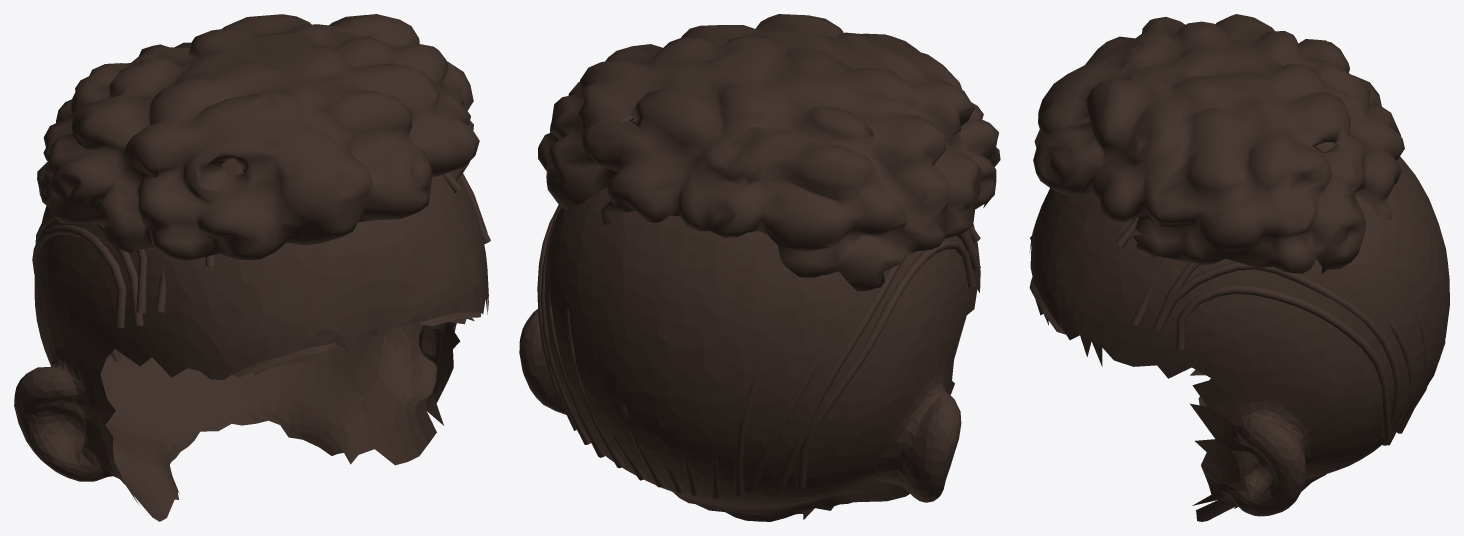
The model's file is curls.glb.
3 renders of one model, left to right at view 1: azimuth 30°, elevation 25°; view 2: azimuth 150°, elevation 25°; view 3: azimuth 270°, elevation 25°, orthographic. The views are drawn at different scales.
Parts seen in each view (by area): view 1: HairScalp, Hair, HairPulledRootStrands; view 2: HairScalp, Hair, HairPulledRootStrands; view 3: HairScalp, Hair, HairPulledRootStrands.
Boxes of the visible parts, x1=… form: HairScalp: x1=14, y1=159, x2=488, y2=521; Hair: x1=37, y1=14, x2=479, y2=260; HairPulledRootStrands: x1=32, y1=172, x2=490, y2=361; HairScalp: x1=519, y1=187, x2=980, y2=521; Hair: x1=538, y1=14, x2=1000, y2=291; HairPulledRootStrands: x1=537, y1=120, x2=980, y2=498; HairScalp: x1=1029, y1=141, x2=1449, y2=521; Hair: x1=1033, y1=14, x2=1404, y2=274; HairPulledRootStrands: x1=1115, y1=217, x2=1445, y2=445.
Size of the model in its own units: 0.4678 by 0.4407 by 0.4152.
